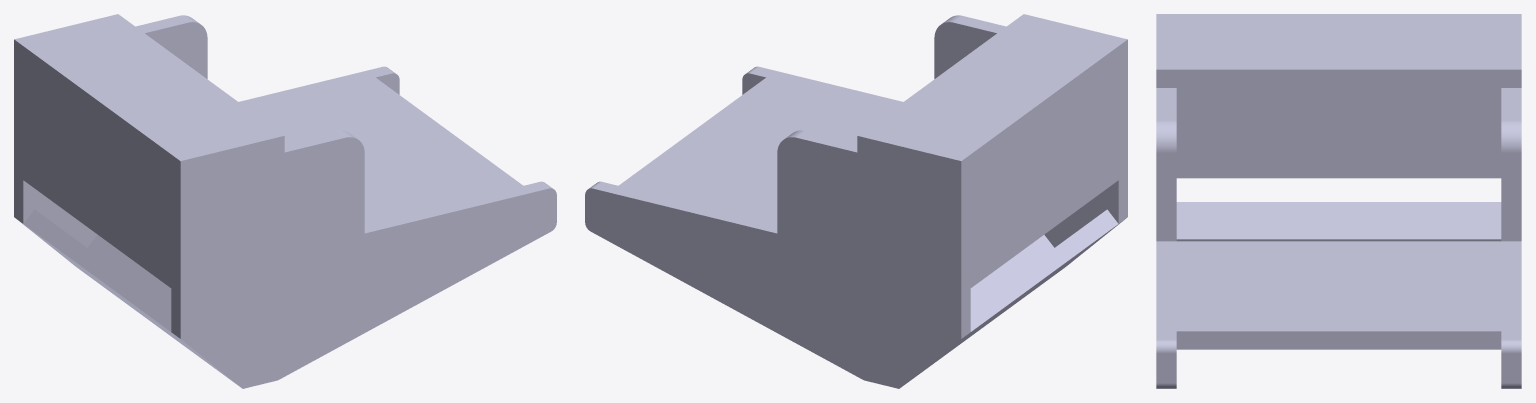
File: Gripper01.dae
The picture shows the model from 3 angles, left to right: view 1: azimuth 30°, elevation 25°; view 2: azimuth 150°, elevation 25°; view 3: azimuth 270°, elevation 25°; orthographic projection. The views are drawn at different scales.
Parts seen in each view (by area): view 1: node0; view 2: node0; view 3: node0.
Part boxes in pixels (left/top/right/bottom): node0: left=14, top=14, right=556, bottom=388; node0: left=585, top=14, right=1127, bottom=388; node0: left=1156, top=14, right=1521, bottom=388.
Size of the model in its own units: 0.235 by 0.18 by 0.145.
